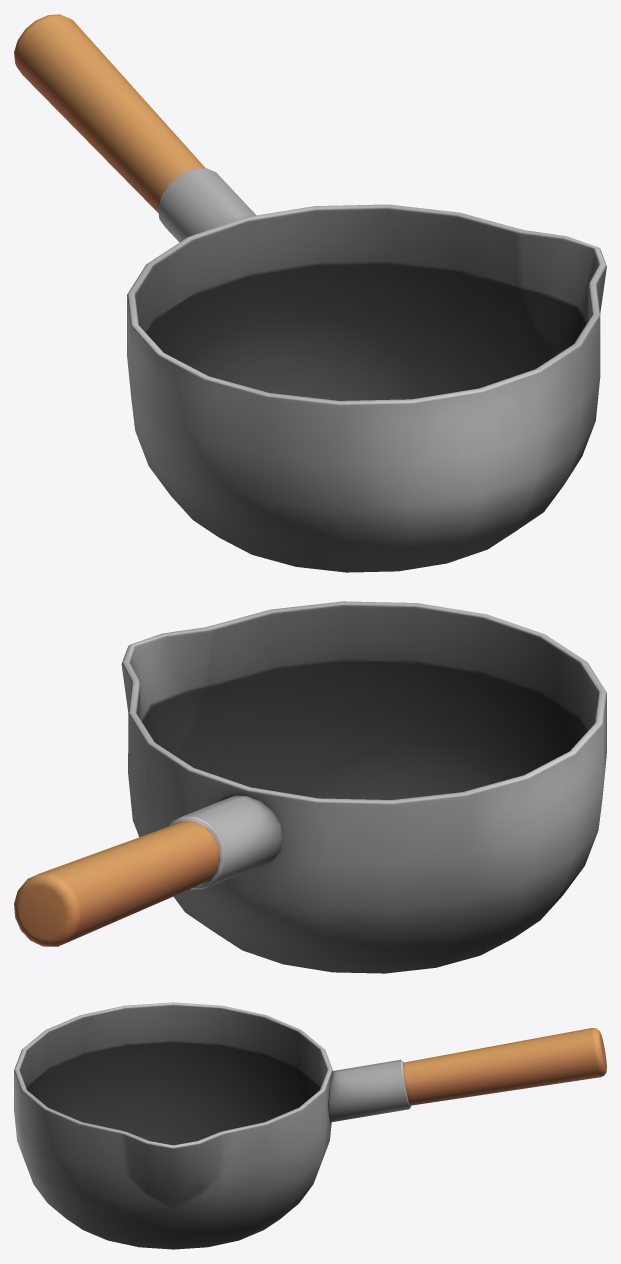
The model's file is JapaneseRestaurant_PotB.fbx.
The picture shows the model from 3 angles, top to bottom: view 1: azimuth 30°, elevation 25°; view 2: azimuth 150°, elevation 25°; view 3: azimuth 270°, elevation 25°; orthographic projection. The views are drawn at different scales.
Visible parts, largest first — view 1: JapaneseRestaurant_PotB; view 2: JapaneseRestaurant_PotB; view 3: JapaneseRestaurant_PotB.
Part boxes in pixels (left/top/right/bottom): JapaneseRestaurant_PotB: left=14, top=14, right=606, bottom=572; JapaneseRestaurant_PotB: left=14, top=601, right=606, bottom=973; JapaneseRestaurant_PotB: left=14, top=1002, right=606, bottom=1249.
Size of the model in its own units: 19.02 by 11.6 by 32.91.
